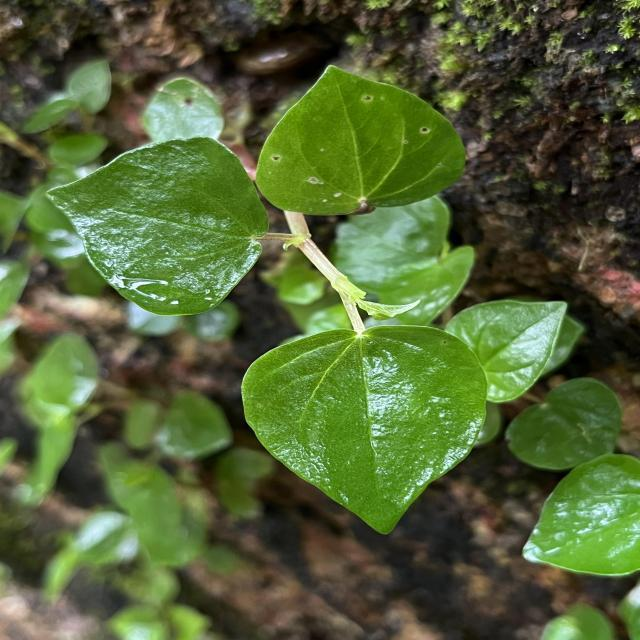Peperomia pellucida: (235, 320, 494, 541), (38, 132, 274, 318), (252, 60, 469, 222)
